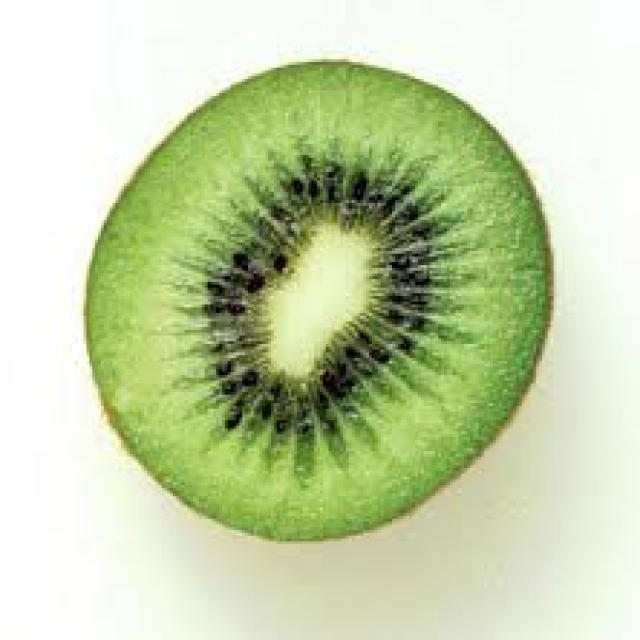Organik: (72, 53, 556, 544)
